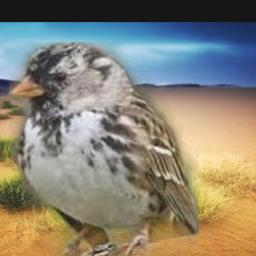Sparrow: (10, 43, 200, 256)
